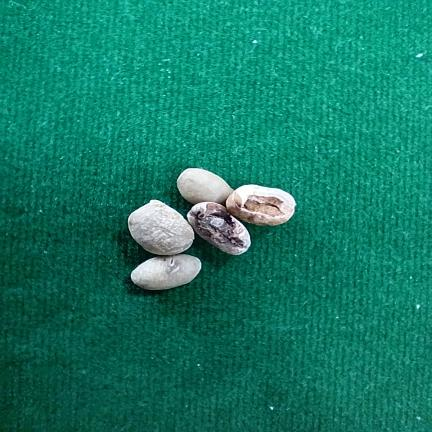shell: (128, 200, 194, 255), (187, 202, 250, 255), (226, 184, 296, 225), (131, 254, 201, 290), (177, 168, 233, 205)
